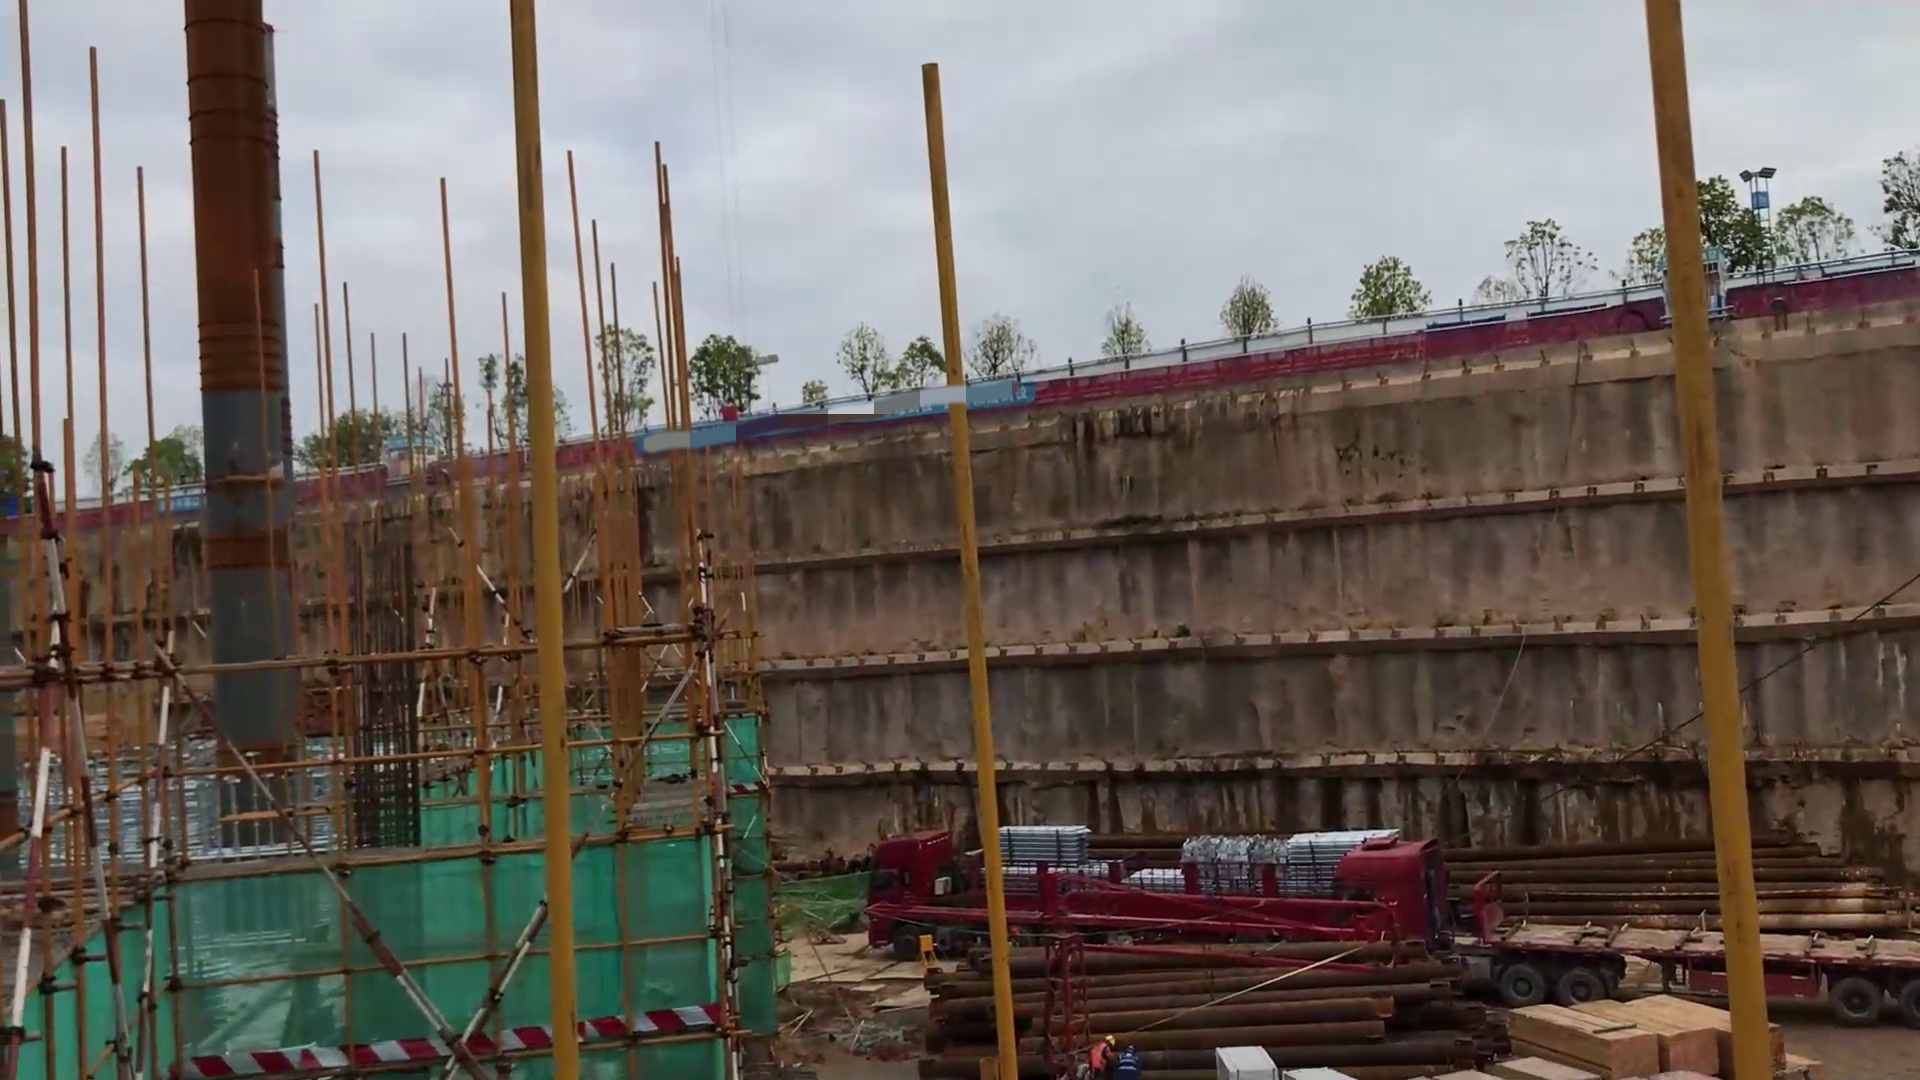person: (1113, 1044, 1149, 1080), (1089, 1034, 1116, 1080)
scaffold: (1002, 825, 1093, 867), (1287, 833, 1341, 899)
vest: (1091, 1041, 1111, 1071), (1120, 1054, 1139, 1074)
wood: (1501, 985, 1786, 1080)
